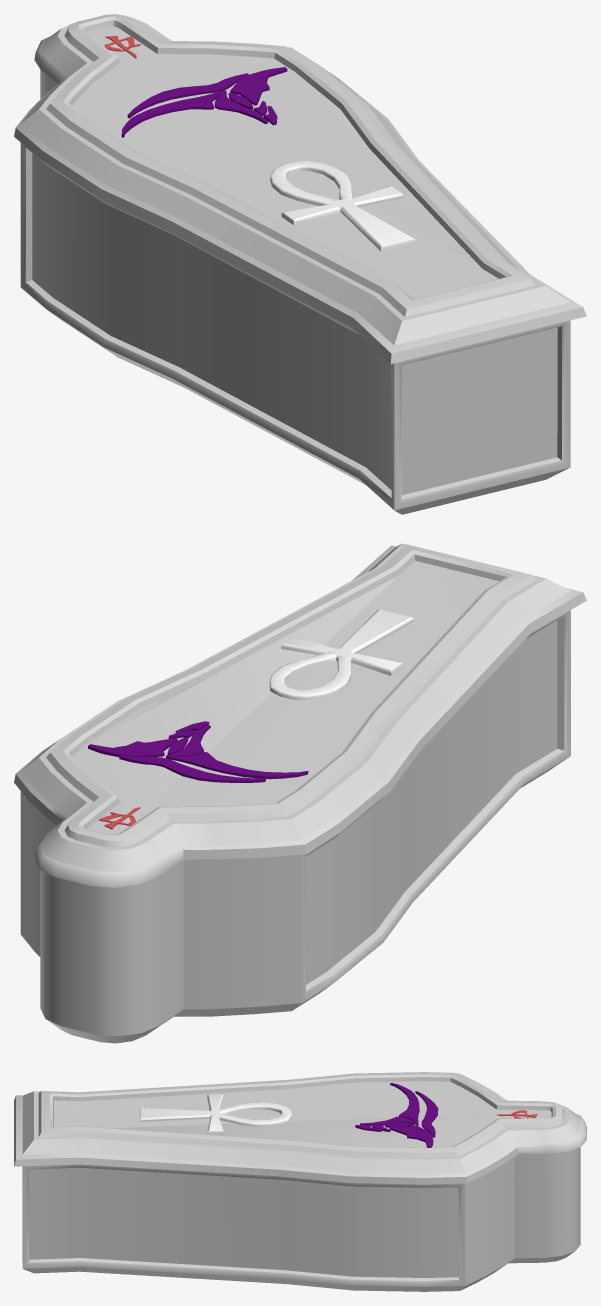
File: Sarcy1.FBX
3 views of the same model, one above another, from view 1: azimuth 30°, elevation 25°; view 2: azimuth 150°, elevation 25°; view 3: azimuth 270°, elevation 25° (orthographic). The views are drawn at different scales.
Parts seen in each view (by area): view 1: Line001, Plane005, Plane002; view 2: Line001, Plane005, Plane002; view 3: Line001, Plane005, Plane002.
Part boxes in pixels (x1=…): Line001: x1=14, y1=14, x2=586, y2=514; Plane005: x1=270, y1=160, x2=416, y2=251; Plane002: x1=121, y1=67, x2=287, y2=137; Line001: x1=14, y1=543, x2=586, y2=1043; Plane005: x1=269, y1=609, x2=413, y2=700; Plane002: x1=88, y1=721, x2=308, y2=782; Line001: x1=14, y1=1072, x2=586, y2=1291; Plane005: x1=140, y1=1094, x2=291, y2=1134; Plane002: x1=355, y1=1083, x2=438, y2=1147.
Size of the model in its own units: 86.64 by 55.62 by 208.
